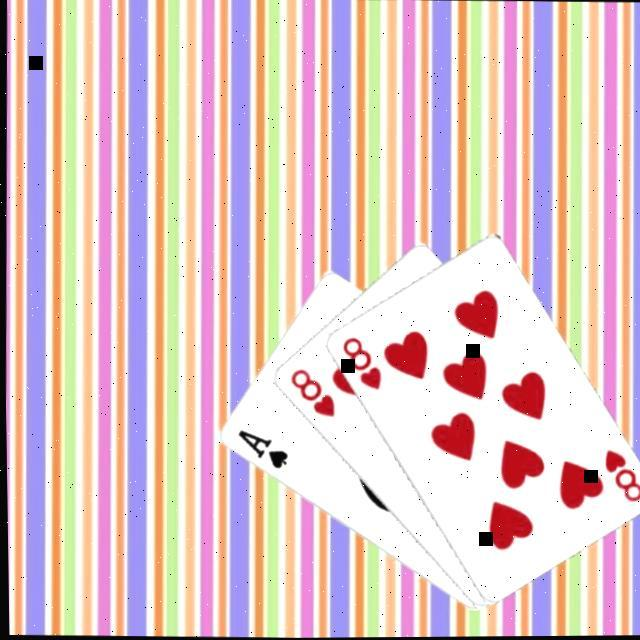8H: (337, 333, 385, 394), (285, 366, 337, 421), (598, 447, 640, 506)
AS: (232, 426, 290, 473)
